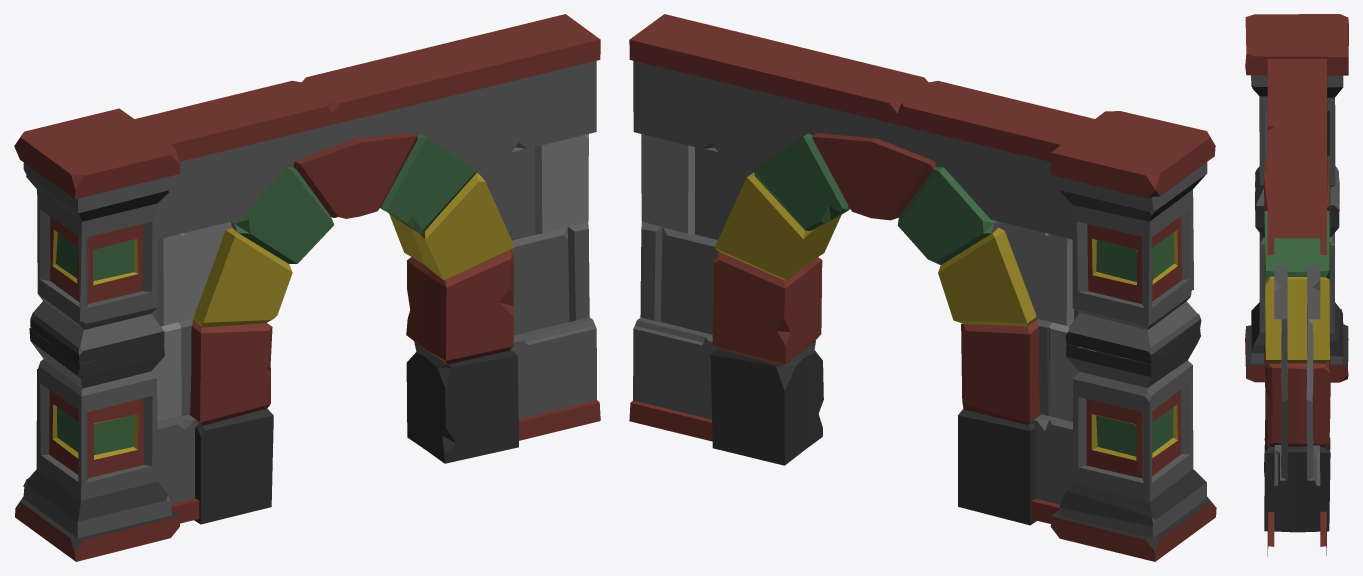
Rendered from door section_color.glb.
The picture shows the model from 3 angles, left to right: view 1: azimuth 30°, elevation 25°; view 2: azimuth 150°, elevation 25°; view 3: azimuth 270°, elevation 25°; orthographic projection. The views are drawn at different scales.
Parts seen in each view (by area): view 1: Doorway 02; view 2: Doorway 02; view 3: Doorway 02.
Boxes of the visible parts, x1,y1,x2,y2 form: Doorway 02: (14,14,600,561); Doorway 02: (629,14,1216,561); Doorway 02: (1245,14,1348,556).
Size of the model in its own units: 4.44 by 3.07 by 0.8726.
